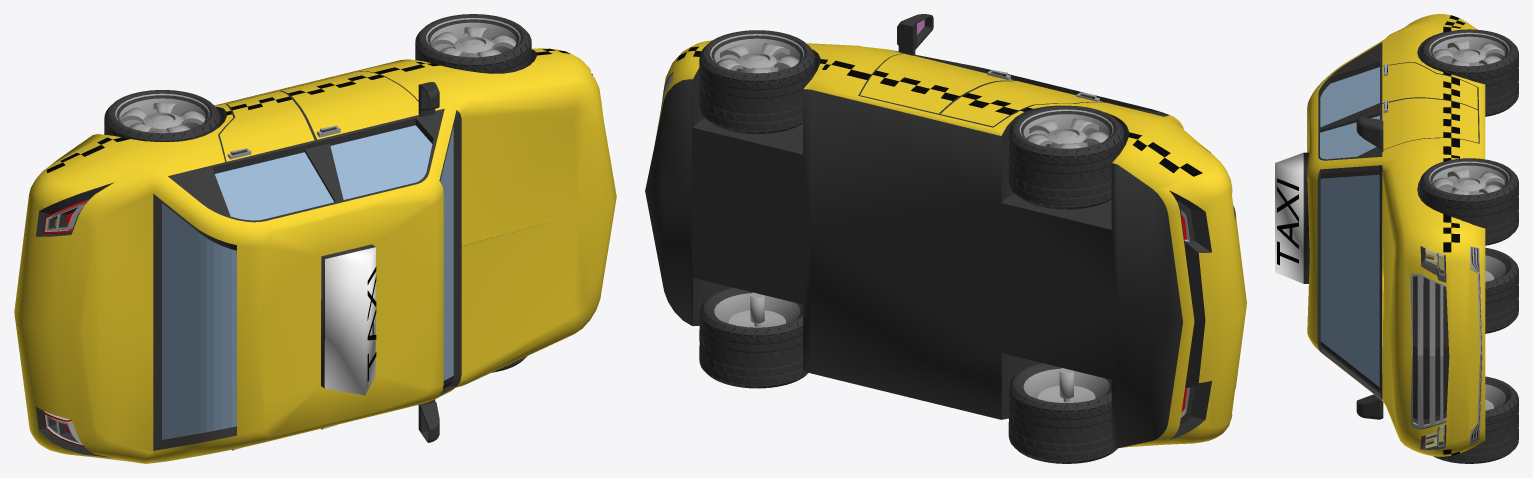
File: taxicopia.dae
3 views of the same model, side by side, from view 1: azimuth 30°, elevation 25°; view 2: azimuth 150°, elevation 25°; view 3: azimuth 270°, elevation 25° (orthographic). The views are drawn at different scales.
Parts seen in each view (by area): view 1: Cube; view 2: Cube; view 3: Cube, Text.
Part boxes in pixels (box(x1,y1,x2,y2)): Cube: box(14, 14, 616, 463); Cube: box(645, 14, 1246, 463); Cube: box(1275, 14, 1518, 463); Text: box(1277, 178, 1298, 265).
Size of the model in its own units: 5.49 by 2.35 by 3.16.
